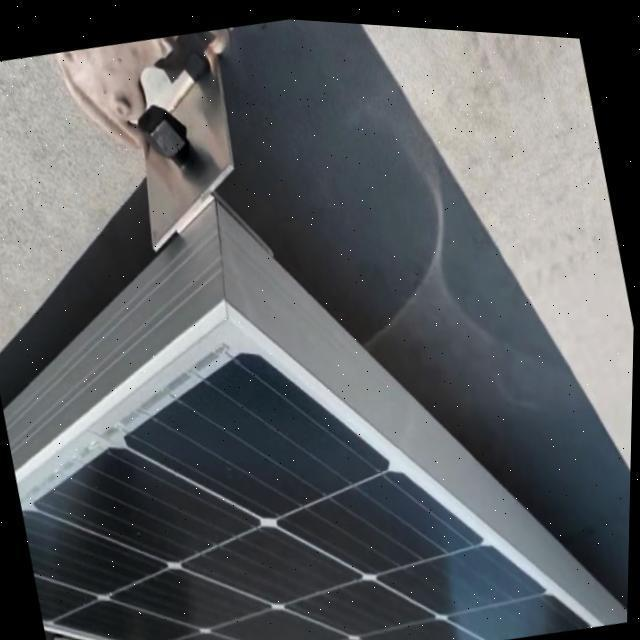Normal Solar Panel: (0, 213, 617, 640)
